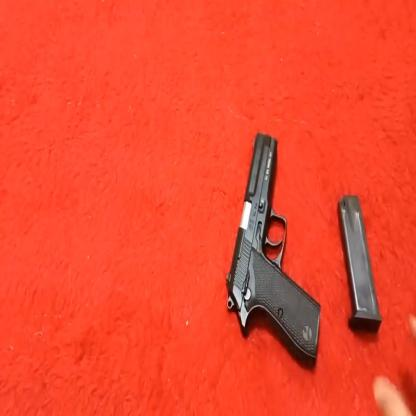handgun: (226, 127, 322, 371)
